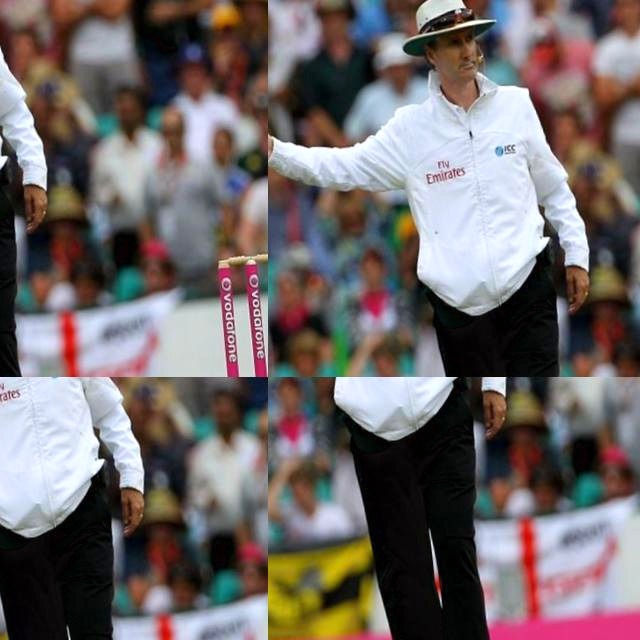No_Action: (268, 0, 359, 287)
No_Ball: (268, 377, 564, 640)
Out: (0, 0, 66, 143)
Six: (0, 377, 258, 640)
